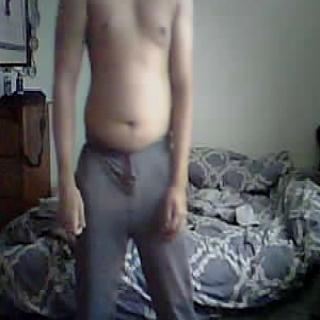Gray Sweatpants: (75, 141, 195, 320)
